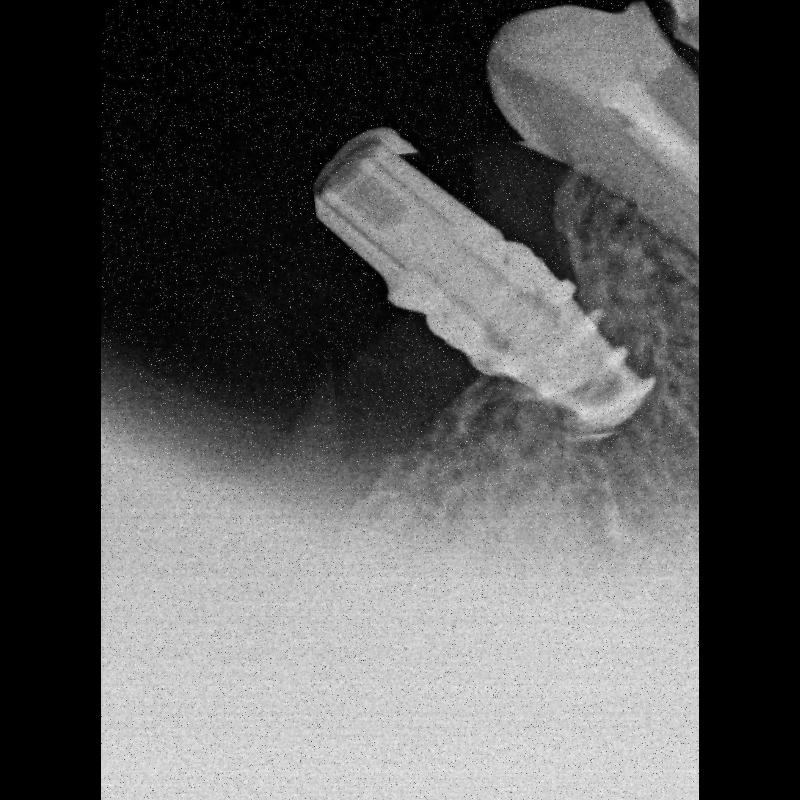ADIN: (319, 139, 654, 453)
